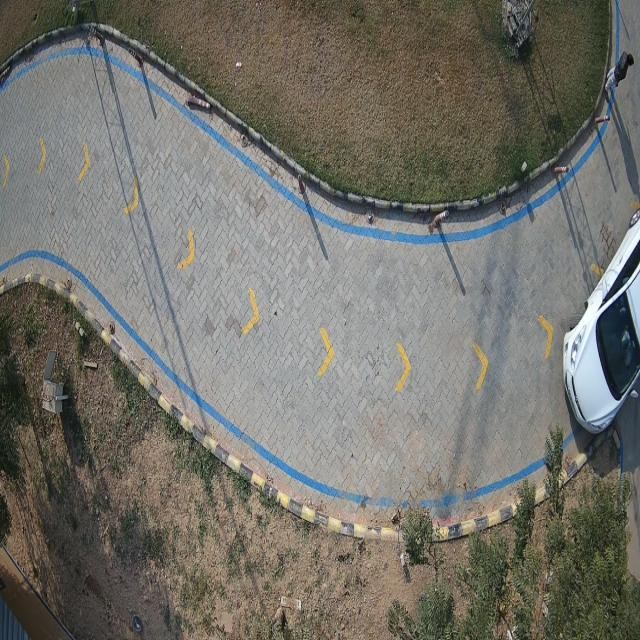car: (562, 213, 640, 433)
